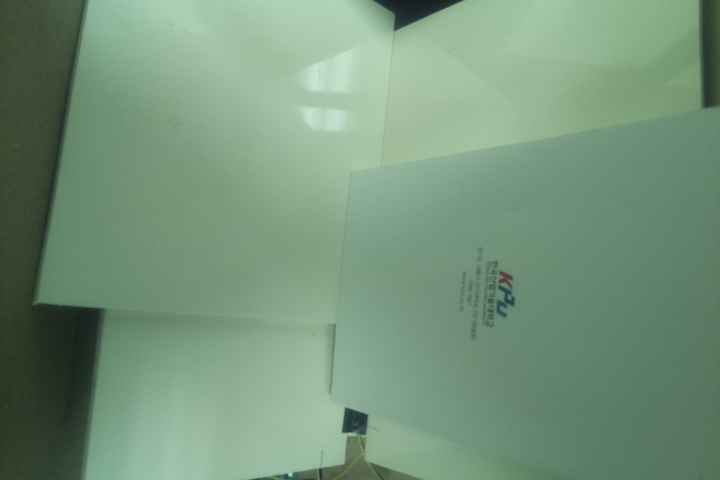book: (329, 107, 720, 478)
